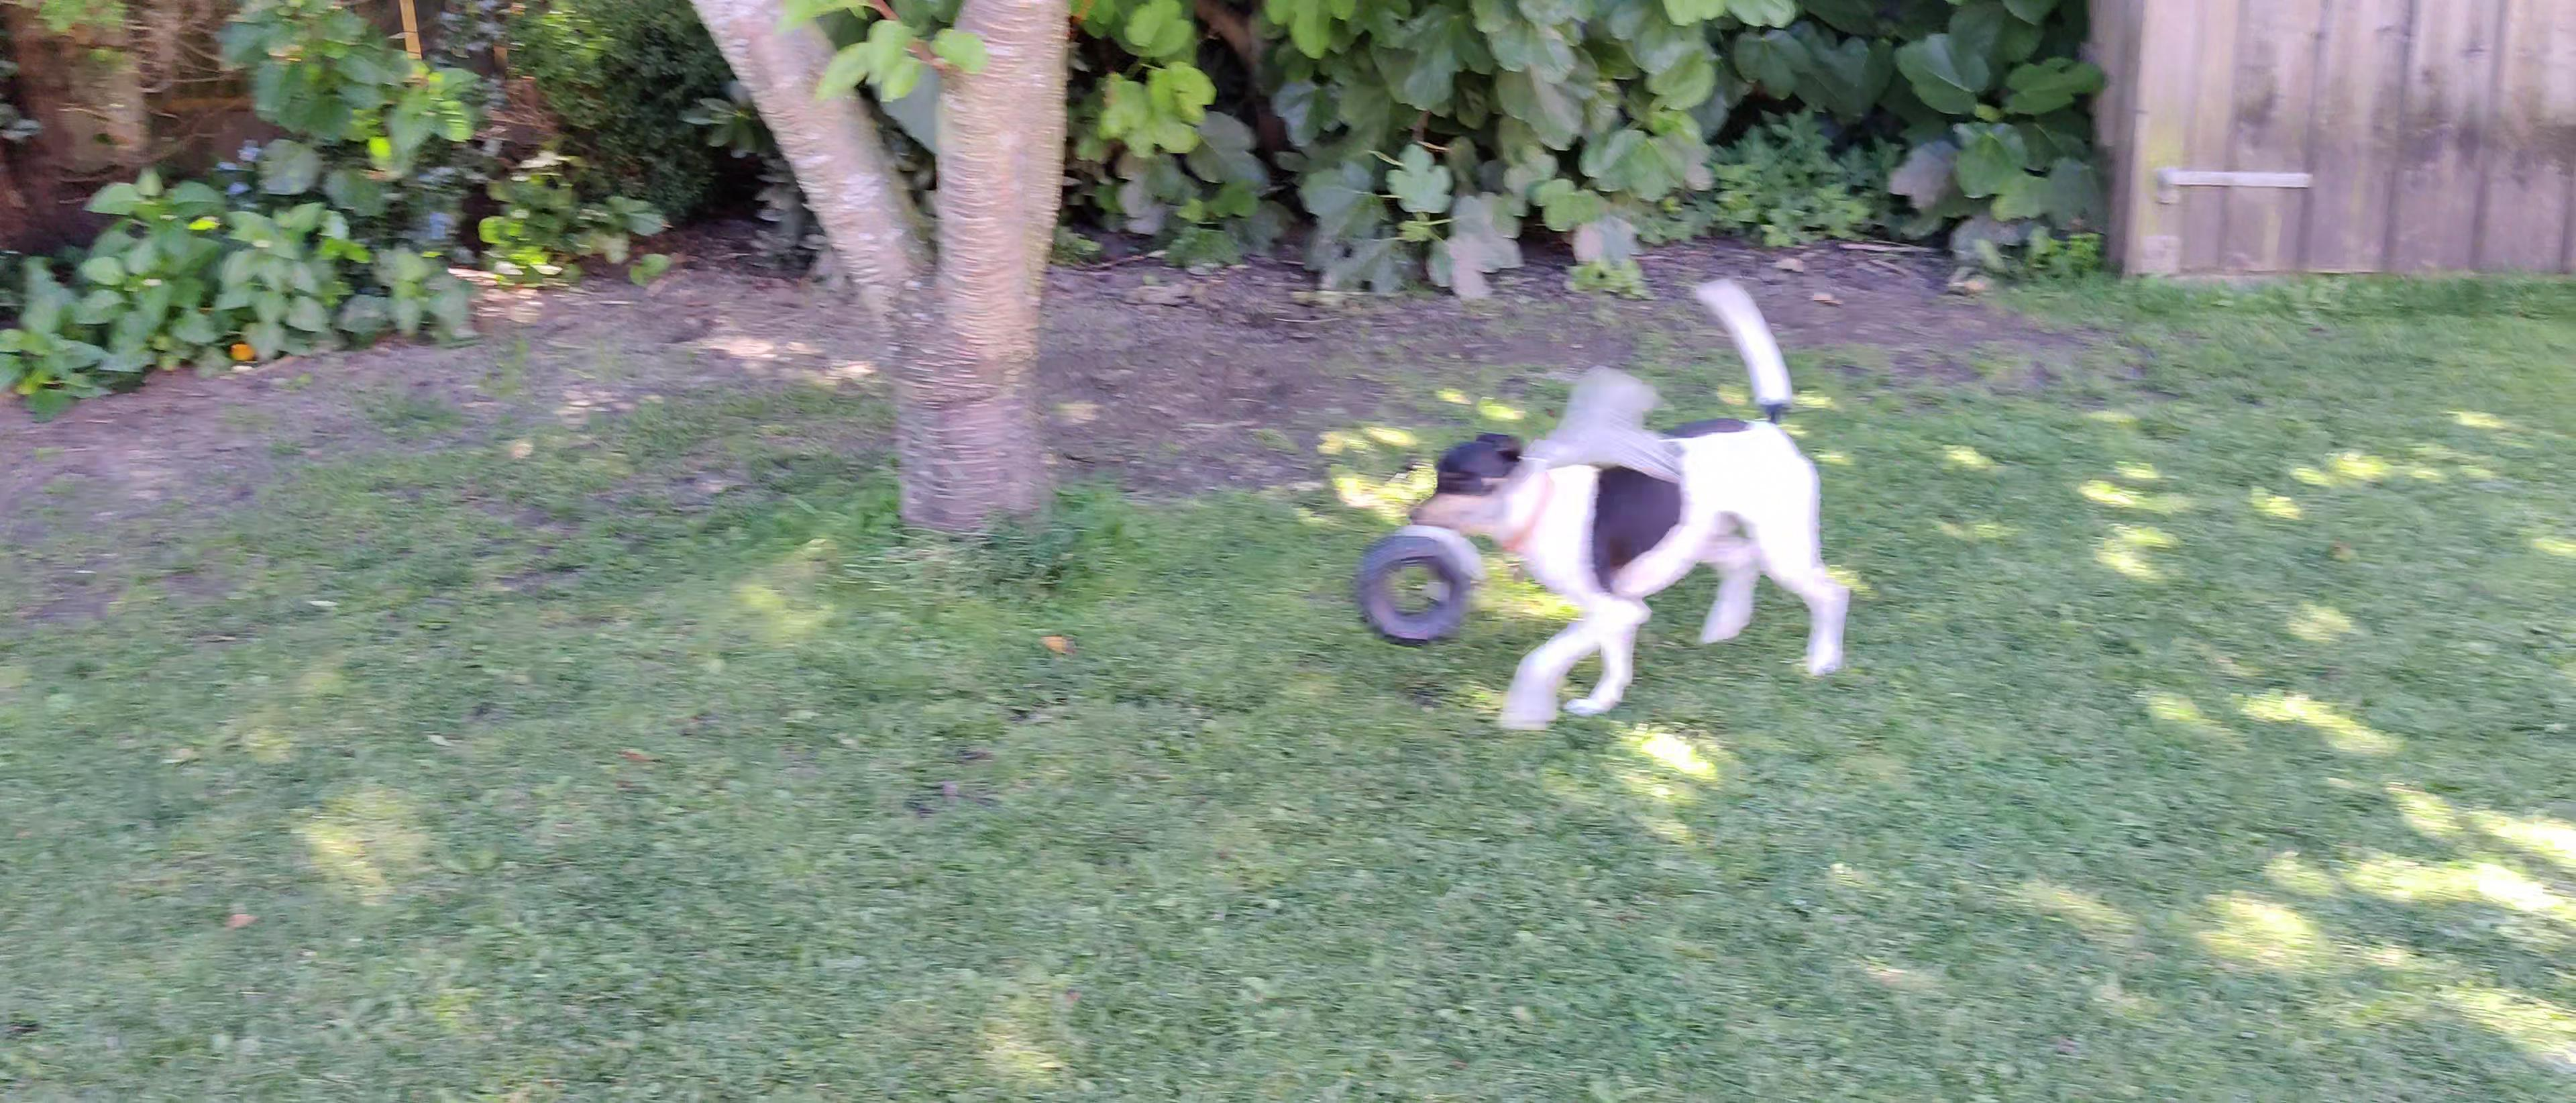Dog: (1395, 275, 1868, 745)
